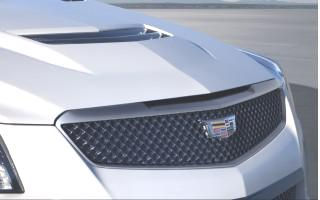cadillac: (192, 112, 246, 142)
